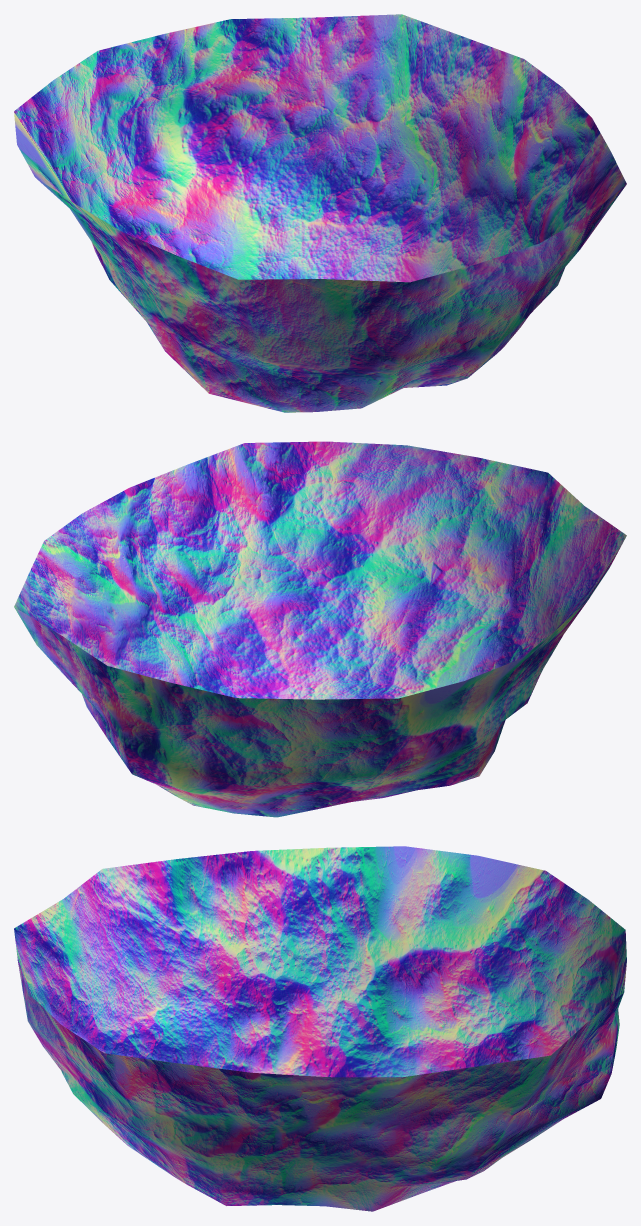
Rendered from rock.fbx.
3 views of the same model, one above another, from view 1: azimuth 30°, elevation 25°; view 2: azimuth 150°, elevation 25°; view 3: azimuth 270°, elevation 25° (orthographic). The views are drawn at different scales.
Visible parts, largest first — view 1: rock; view 2: rock; view 3: rock.
Boxes of the visible parts, x1=… form: rock: x1=14, y1=14, x2=626, y2=412; rock: x1=14, y1=441, x2=626, y2=817; rock: x1=14, y1=846, x2=626, y2=1211.
Bounding box in the file's own units: 10.85 × 4.71 × 12.16.
